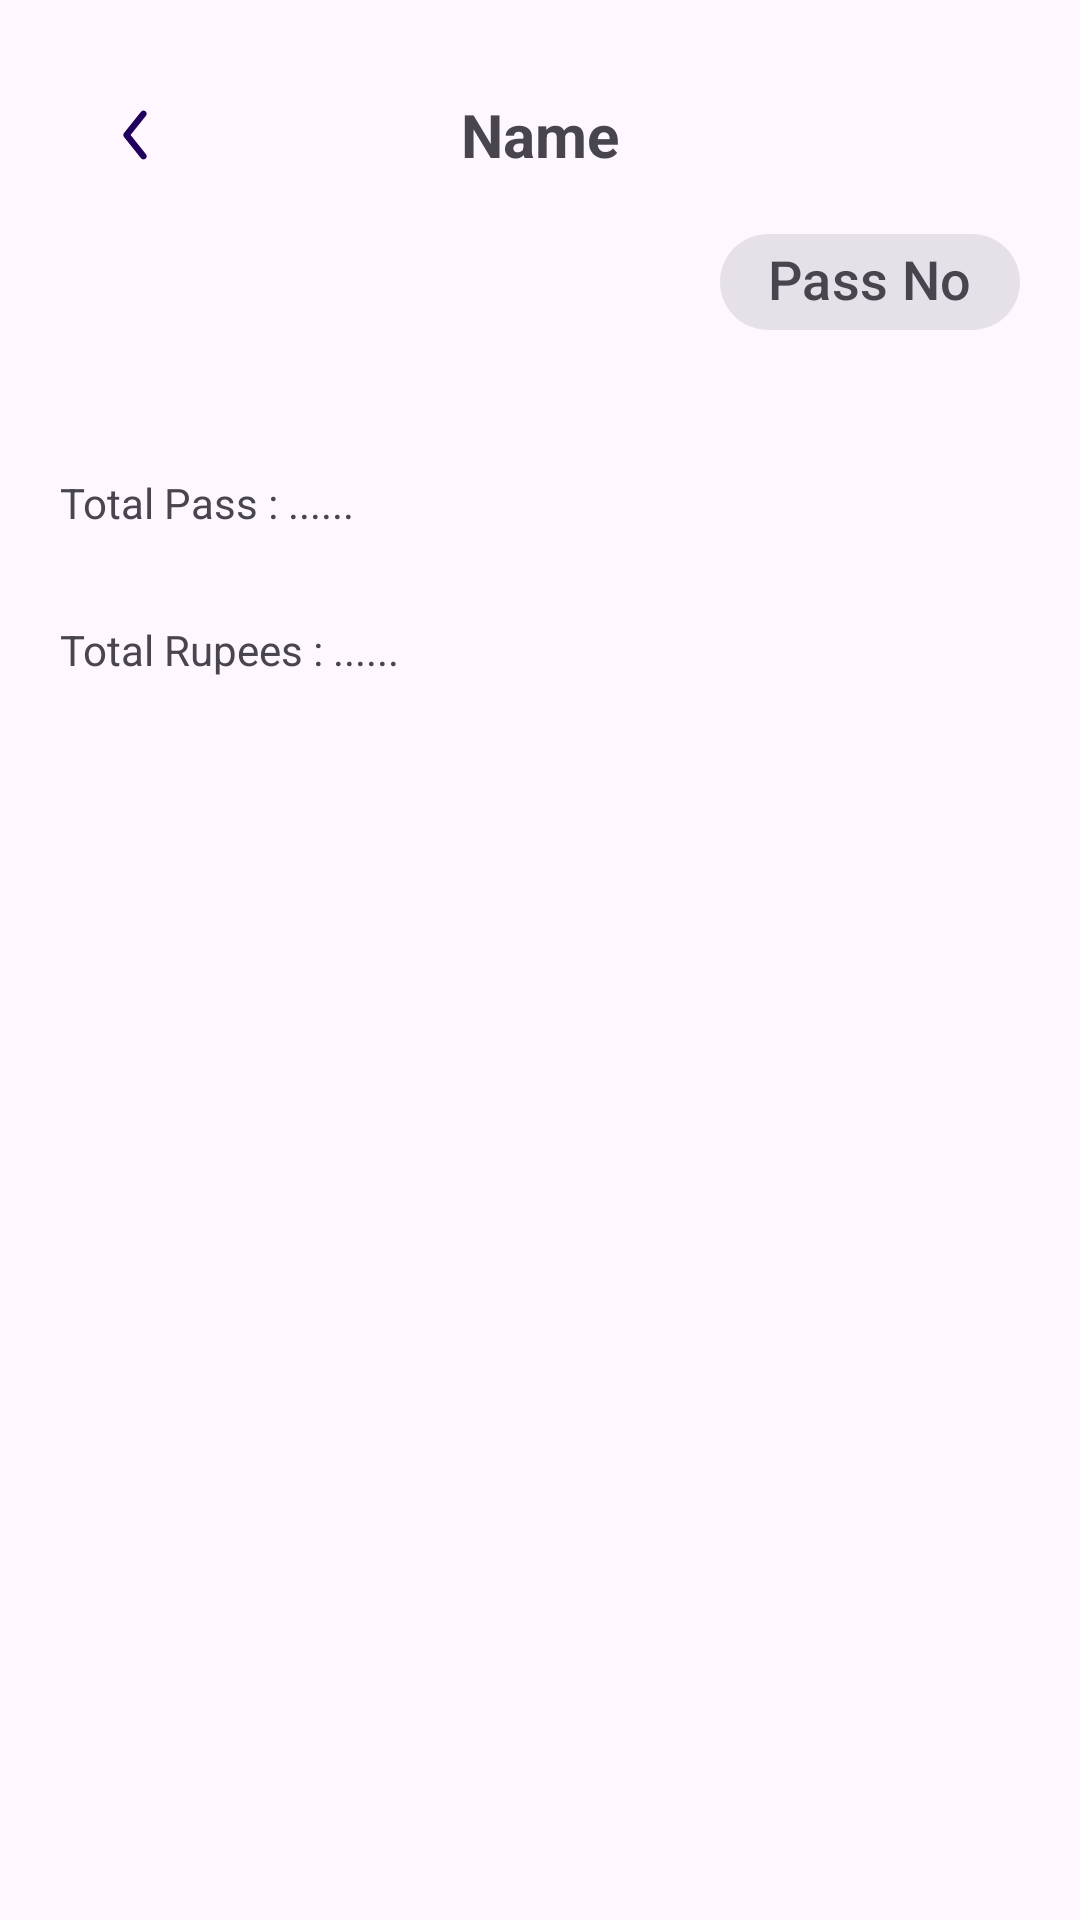

Screen size 1080*1920. Icon name, then its box in pixels as [left=x1, top=y1, right=x2, bottom=y2]:
left: [left=123, top=110, right=147, bottom=160]
